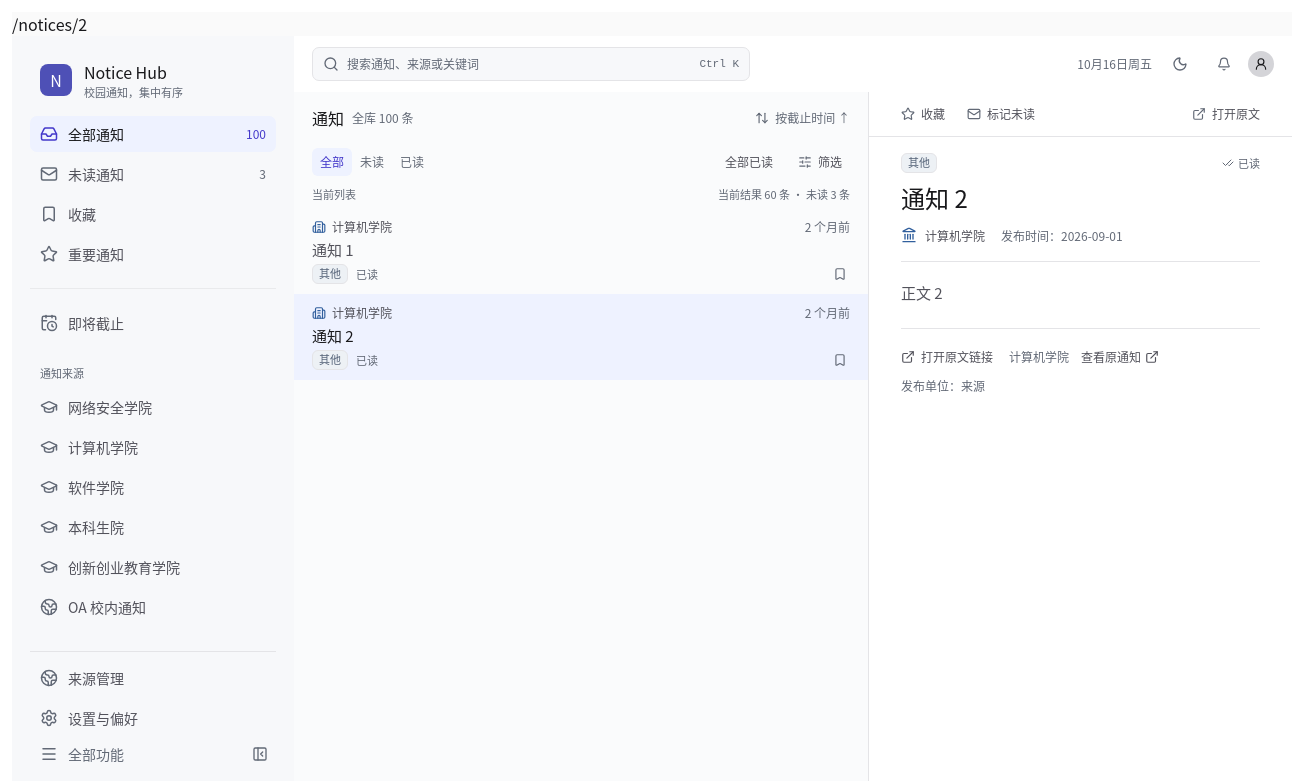
Test case: notice workspace selection › highlights an existing search target and clears the old selection
The image size is (1292, 781).
expect the heading "通知 2" is shown: met, box [901,180,968,215]
Type "通知" into the dropdown labelled "搜索通知". click: (519, 64)
box: [347,55,691,73]
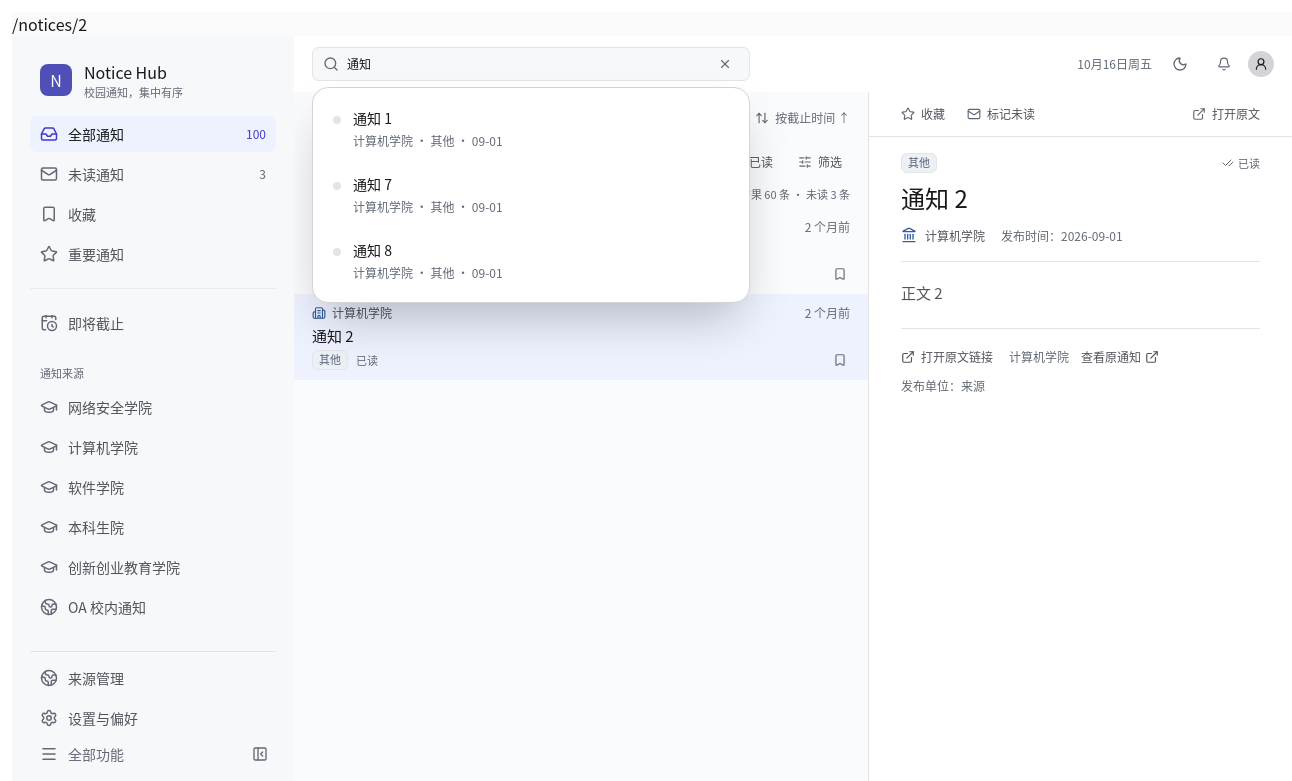
Click the option "通知 1 计算机学院 · 其他 · 09-01". click: (348, 119)
box: [321,96,741,162]
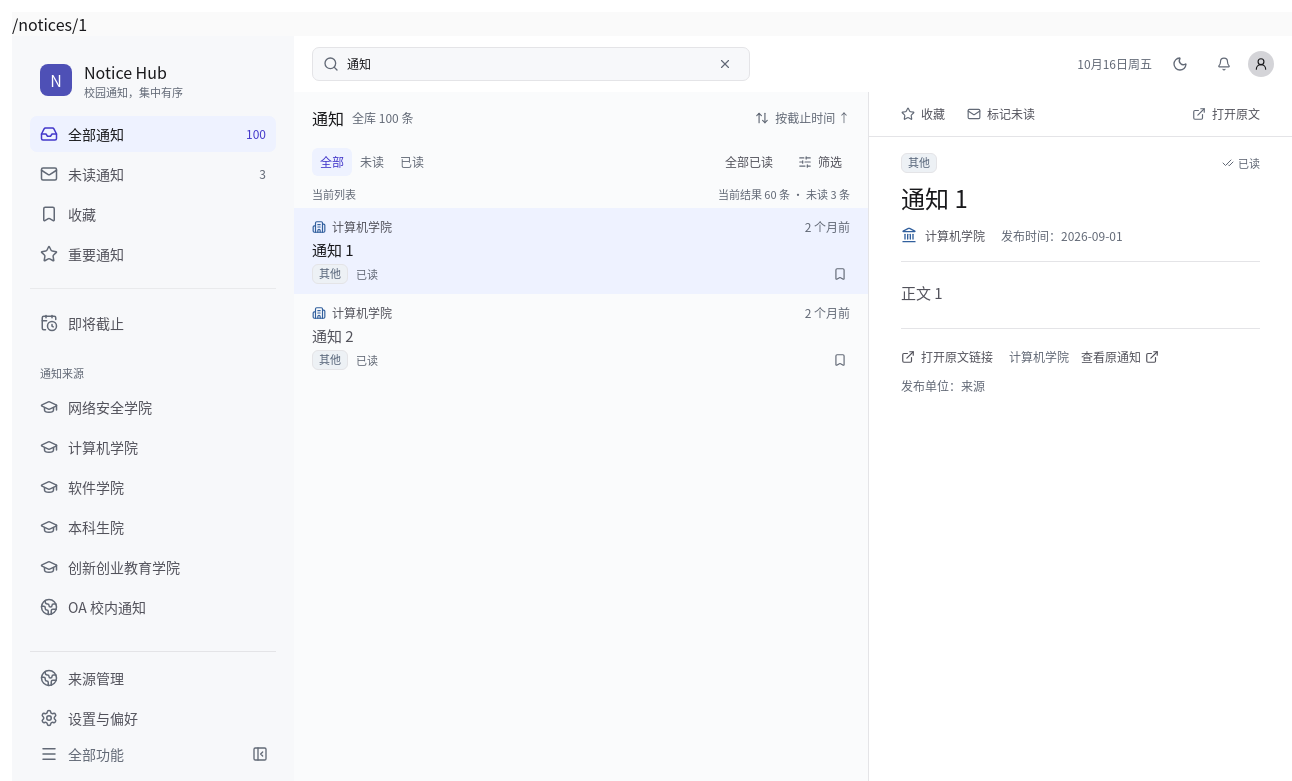
expect the heading "通知 1" is shown: met, box [901,180,968,215]
